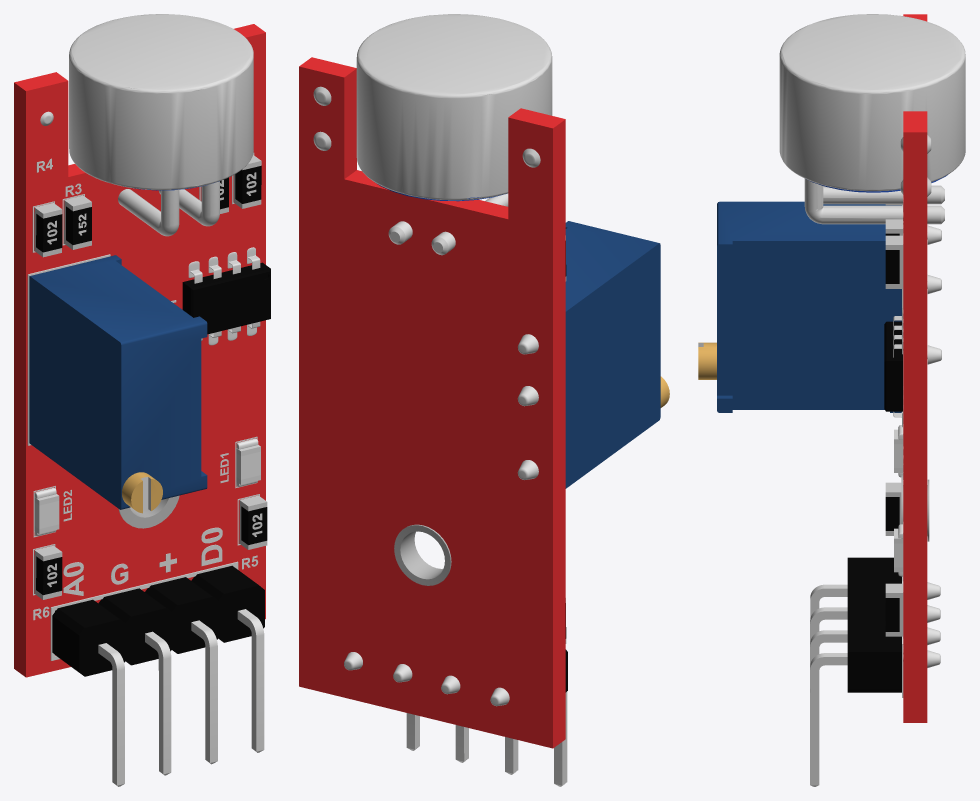
The model's file is 19. SOUND SENSOR.gltf.
3 renders of one model, left to right at view 1: azimuth 30°, elevation 25°; view 2: azimuth 150°, elevation 25°; view 3: azimuth 270°, elevation 25°, orthographic. The views are drawn at different scales.
Parts seen in each view (by area): view 1: sound sensor.001; view 2: sound sensor.001; view 3: sound sensor.001.
Part boxes in pixels (bbox=[...]): sound sensor.001: bbox=[14, 14, 270, 786]; sound sensor.001: bbox=[299, 14, 669, 786]; sound sensor.001: bbox=[698, 14, 965, 786].
Bounding box in the file's own units: 0.013 × 0.0361 × 0.0125.
